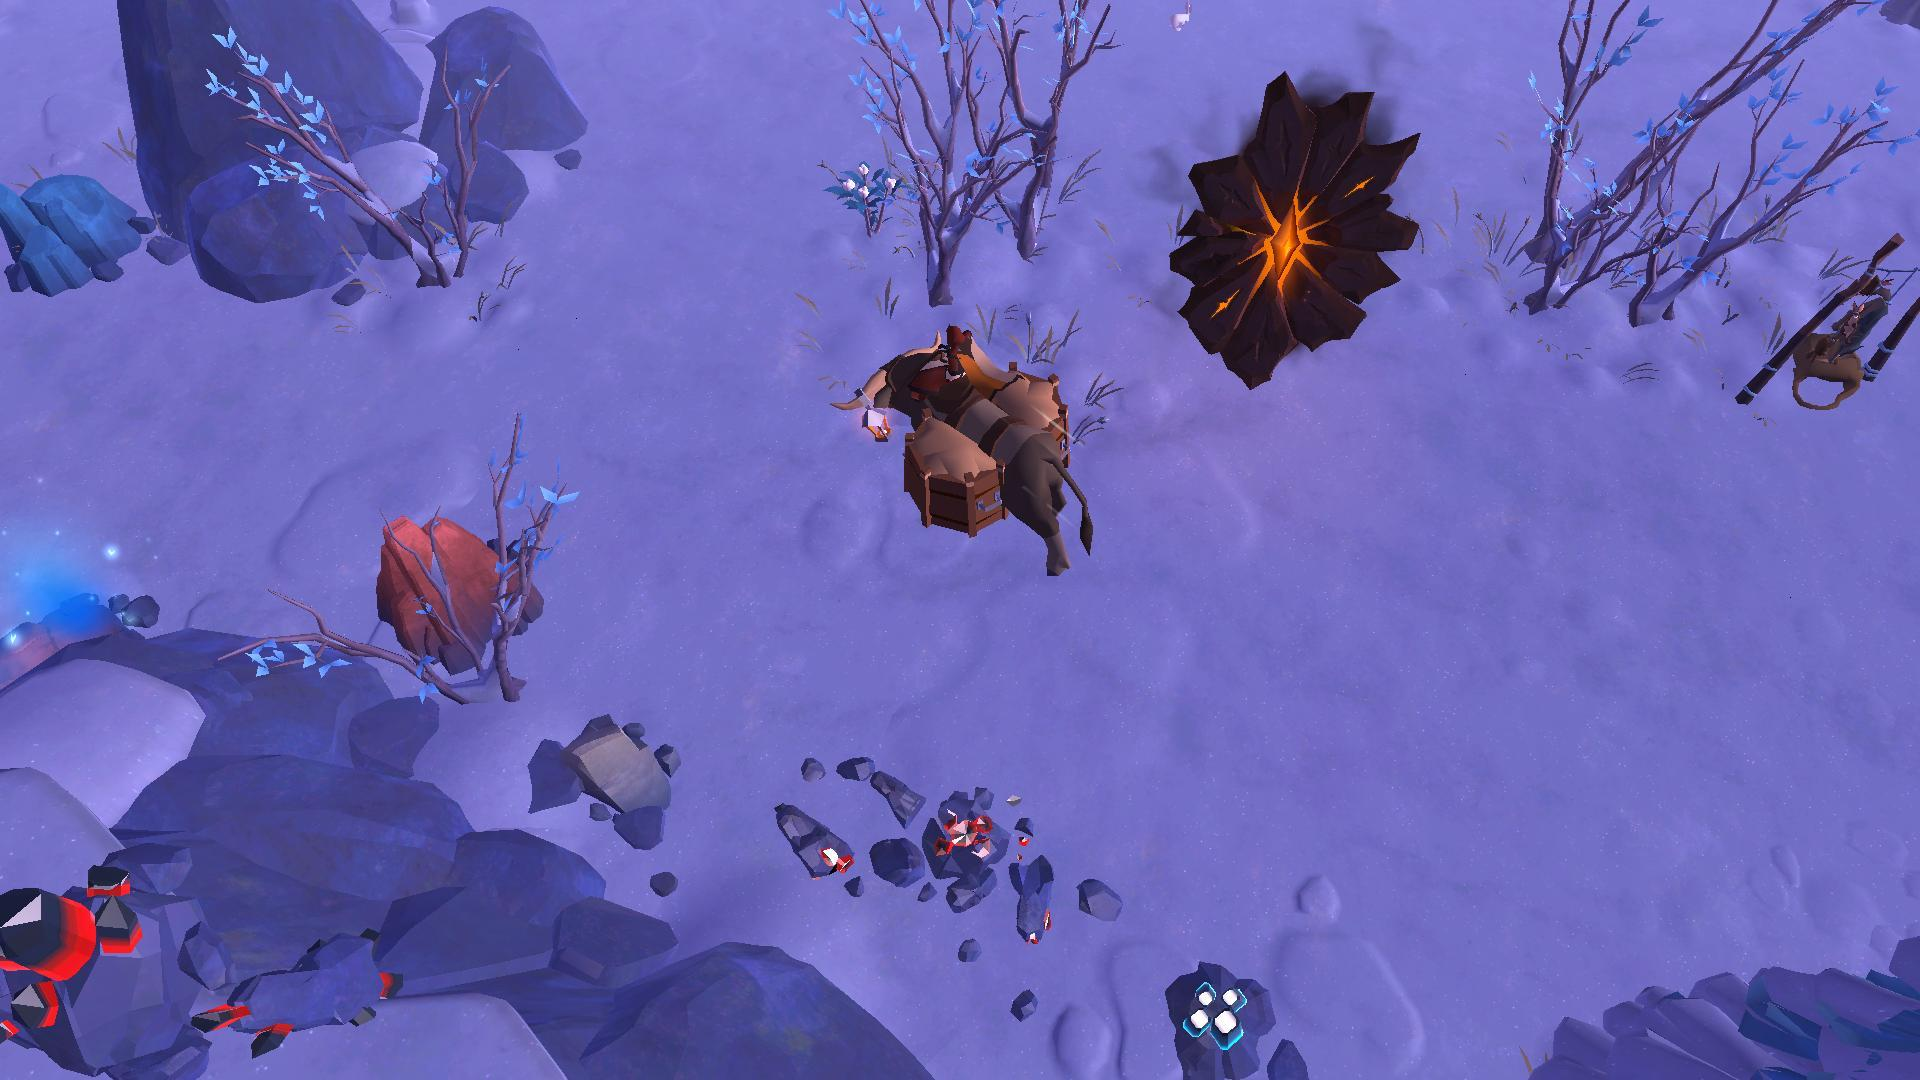fiber_t4: (831, 158, 901, 229)
rock_t4: (0, 154, 157, 298)
rock_t5: (364, 512, 546, 666)
